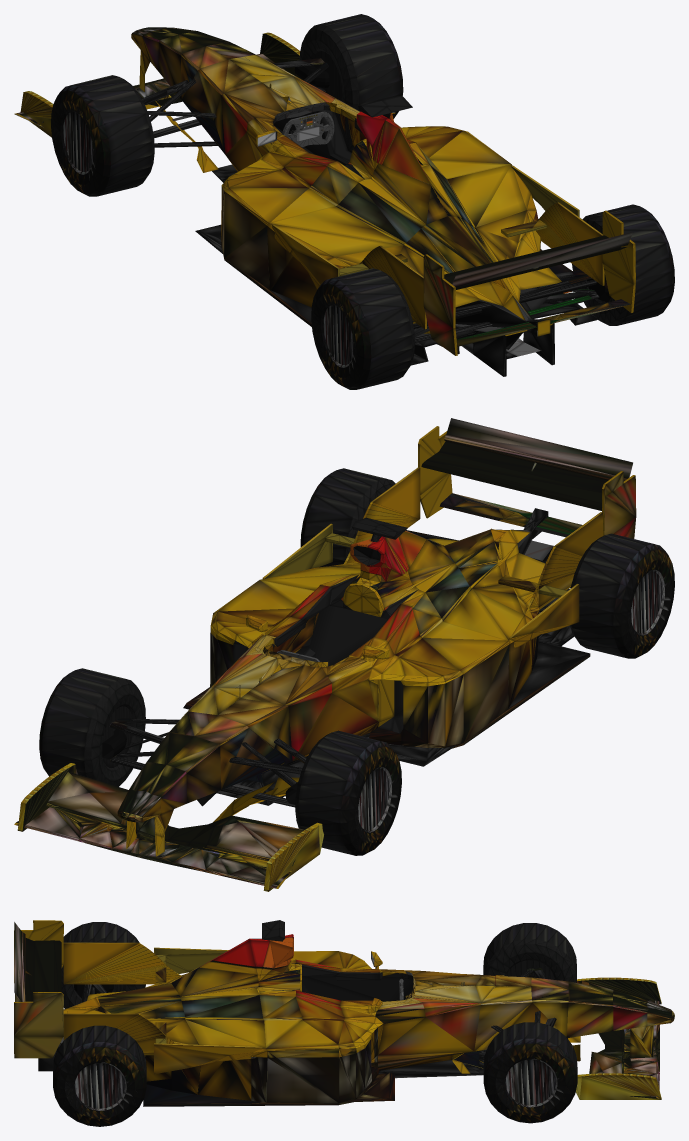
The picture shows the model from 3 angles, top to bottom: view 1: azimuth 30°, elevation 25°; view 2: azimuth 150°, elevation 25°; view 3: azimuth 270°, elevation 25°; orthographic projection. The views are drawn at different scales.
Visible parts, largest first — view 1: world; view 2: world; view 3: world.
Part boxes in pixels (left/top/right/bottom): world: left=14, top=14, right=674, bottom=389; world: left=14, top=418, right=674, bottom=891; world: left=14, top=920, right=674, bottom=1126.
Size of the model in its own units: 0.8643 by 0.441 by 1.91.
1 material, 1 textured.
